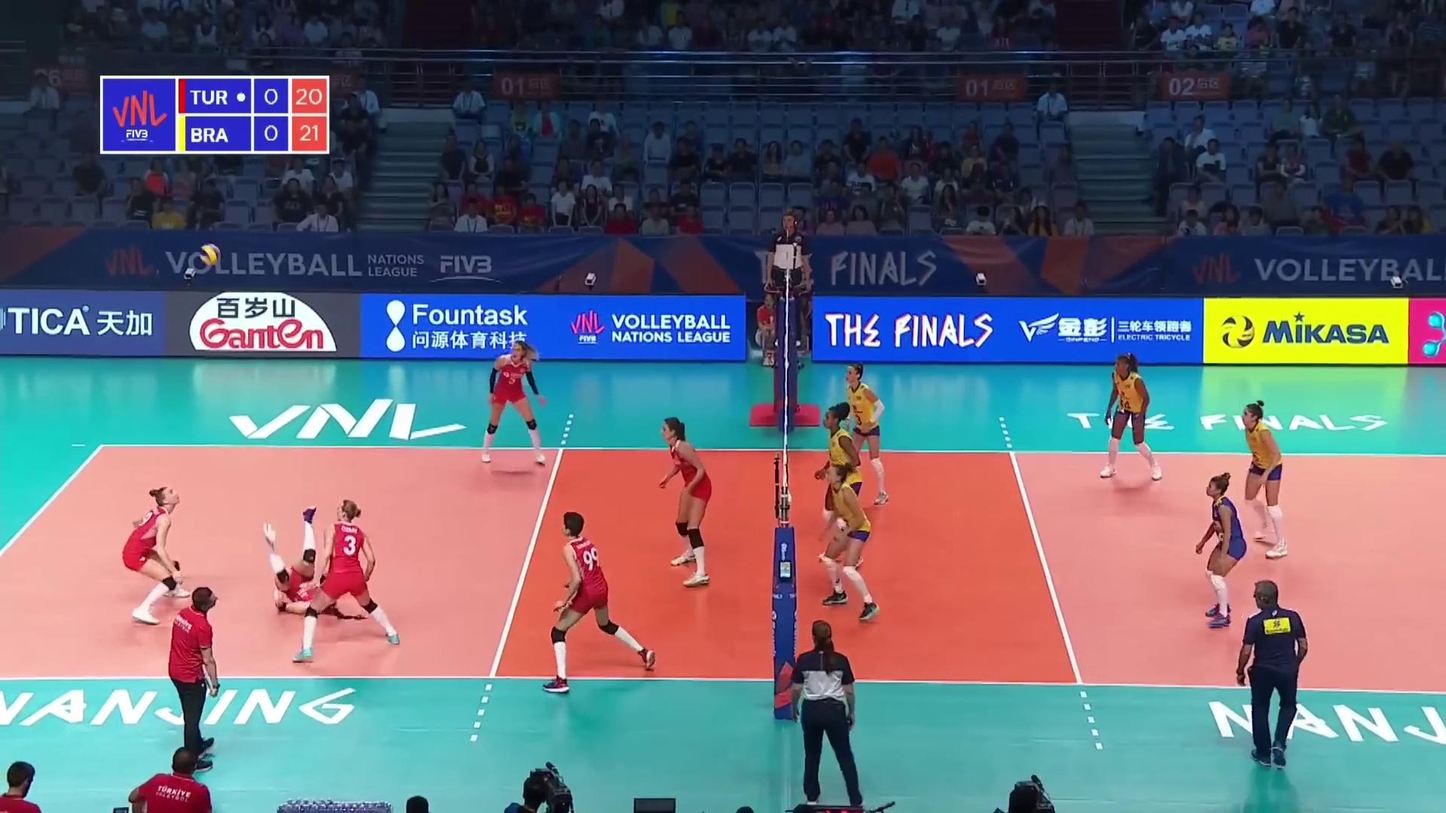player: (300, 501, 400, 666), (549, 512, 639, 685), (261, 517, 369, 618), (654, 417, 716, 583), (121, 486, 183, 628), (481, 341, 547, 471), (1195, 470, 1248, 627), (821, 464, 874, 621), (1100, 353, 1163, 484), (842, 363, 889, 508), (1243, 401, 1285, 561), (821, 408, 863, 562)
refree: (780, 628, 863, 805), (768, 215, 805, 352)
